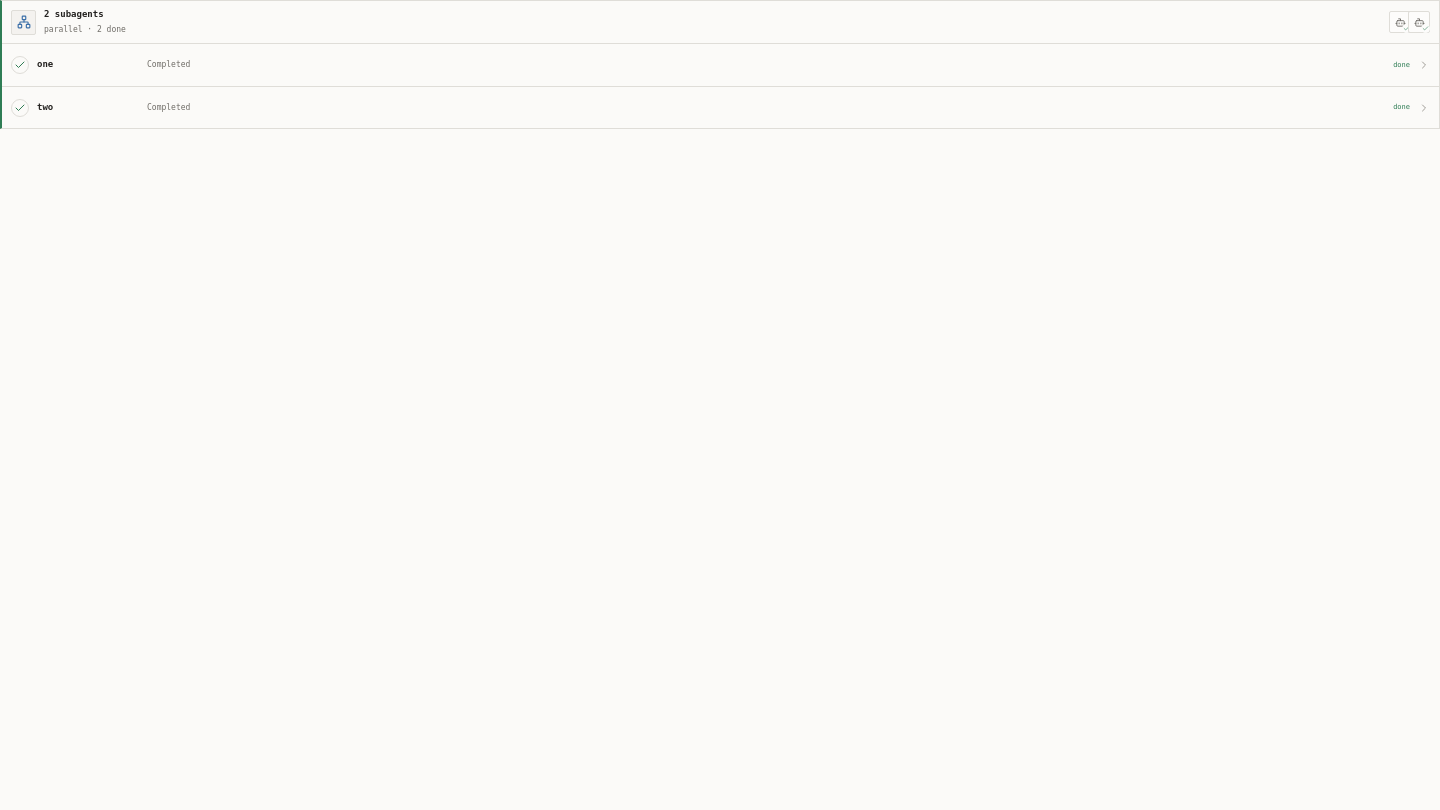
Test: adaptive extension rendering › detects subagent custom messages and opens each reported agent
Expected: the text "2 subagents" is shown, [44, 9, 104, 19]
Expected: the text "2 subagents" shows "parallel · 2 done", [2, 1, 1439, 43]
Click the button named "Open subagent one" at (1400, 22), box [1389, 11, 1411, 33]
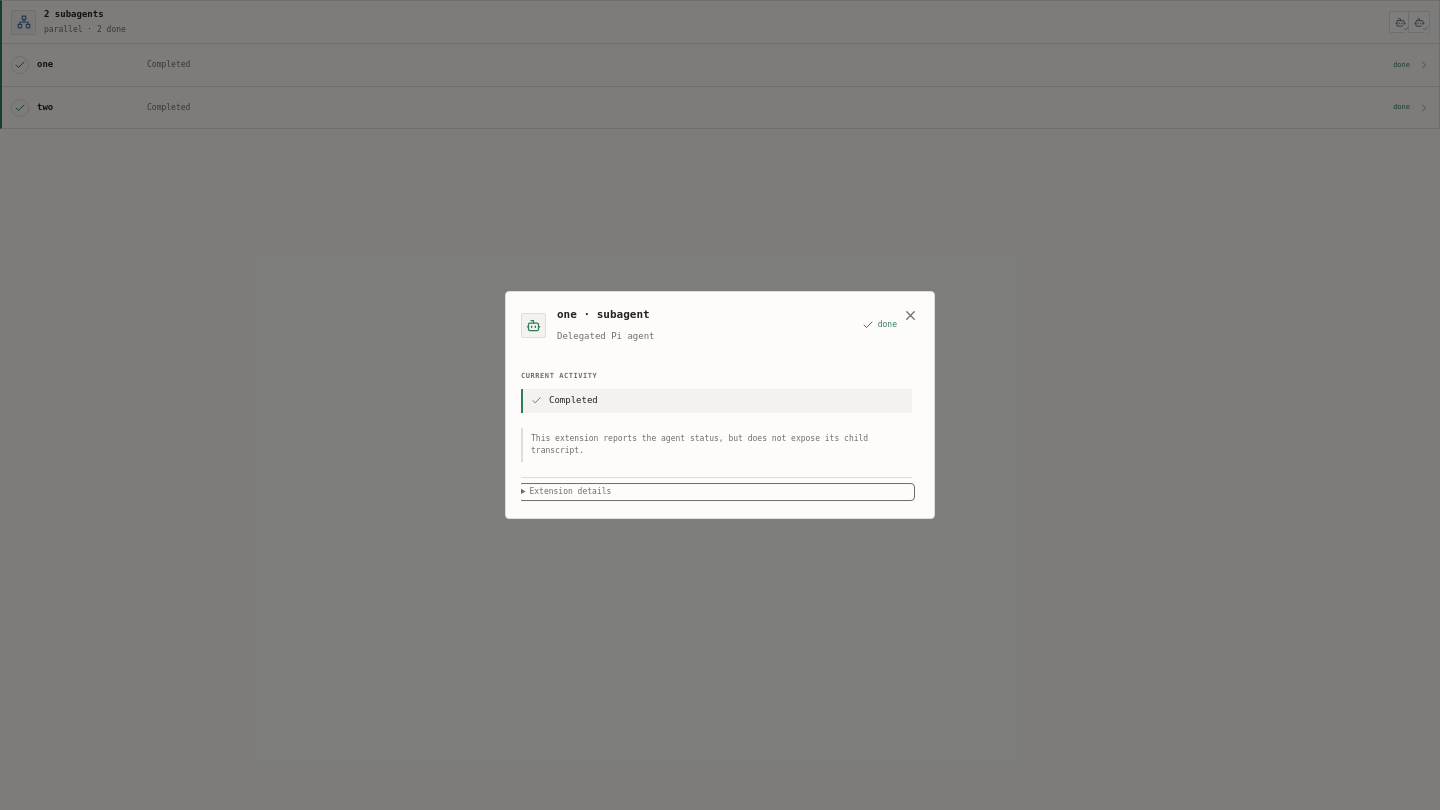
Result: the dialog shows "one · subagent" at [505, 291, 935, 519]
Result: the text "does not expose its child transcript" is shown at [531, 434, 868, 455]
